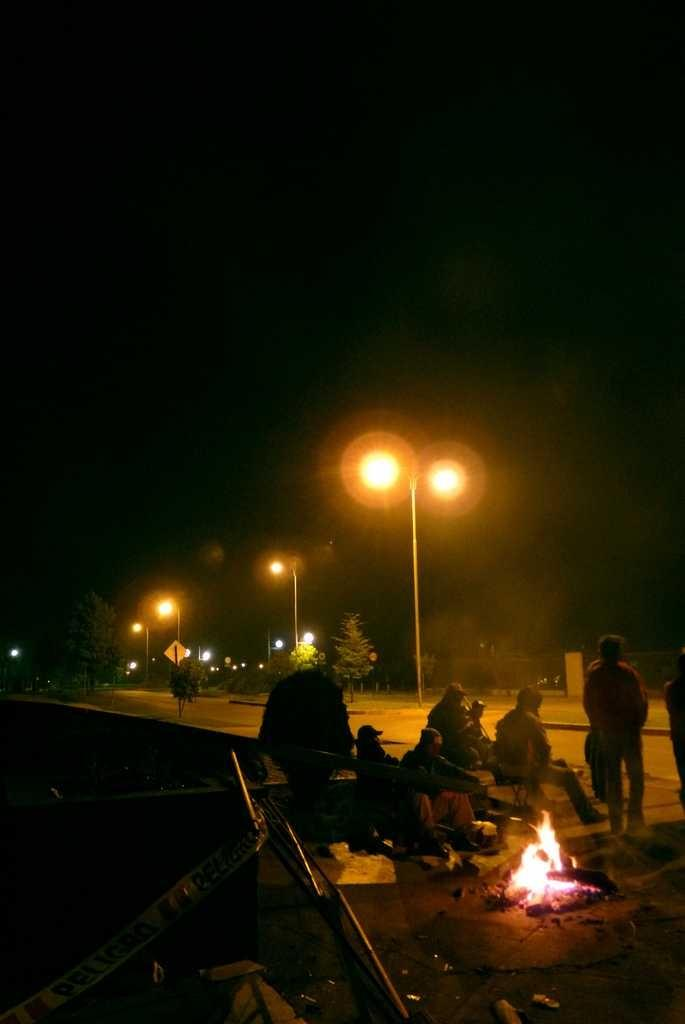fire: (511, 817, 601, 933)
